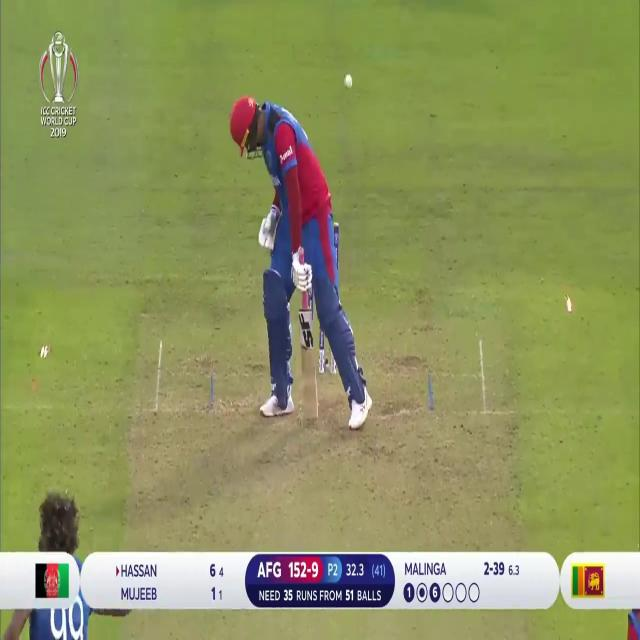ball: (342, 71, 355, 90)
